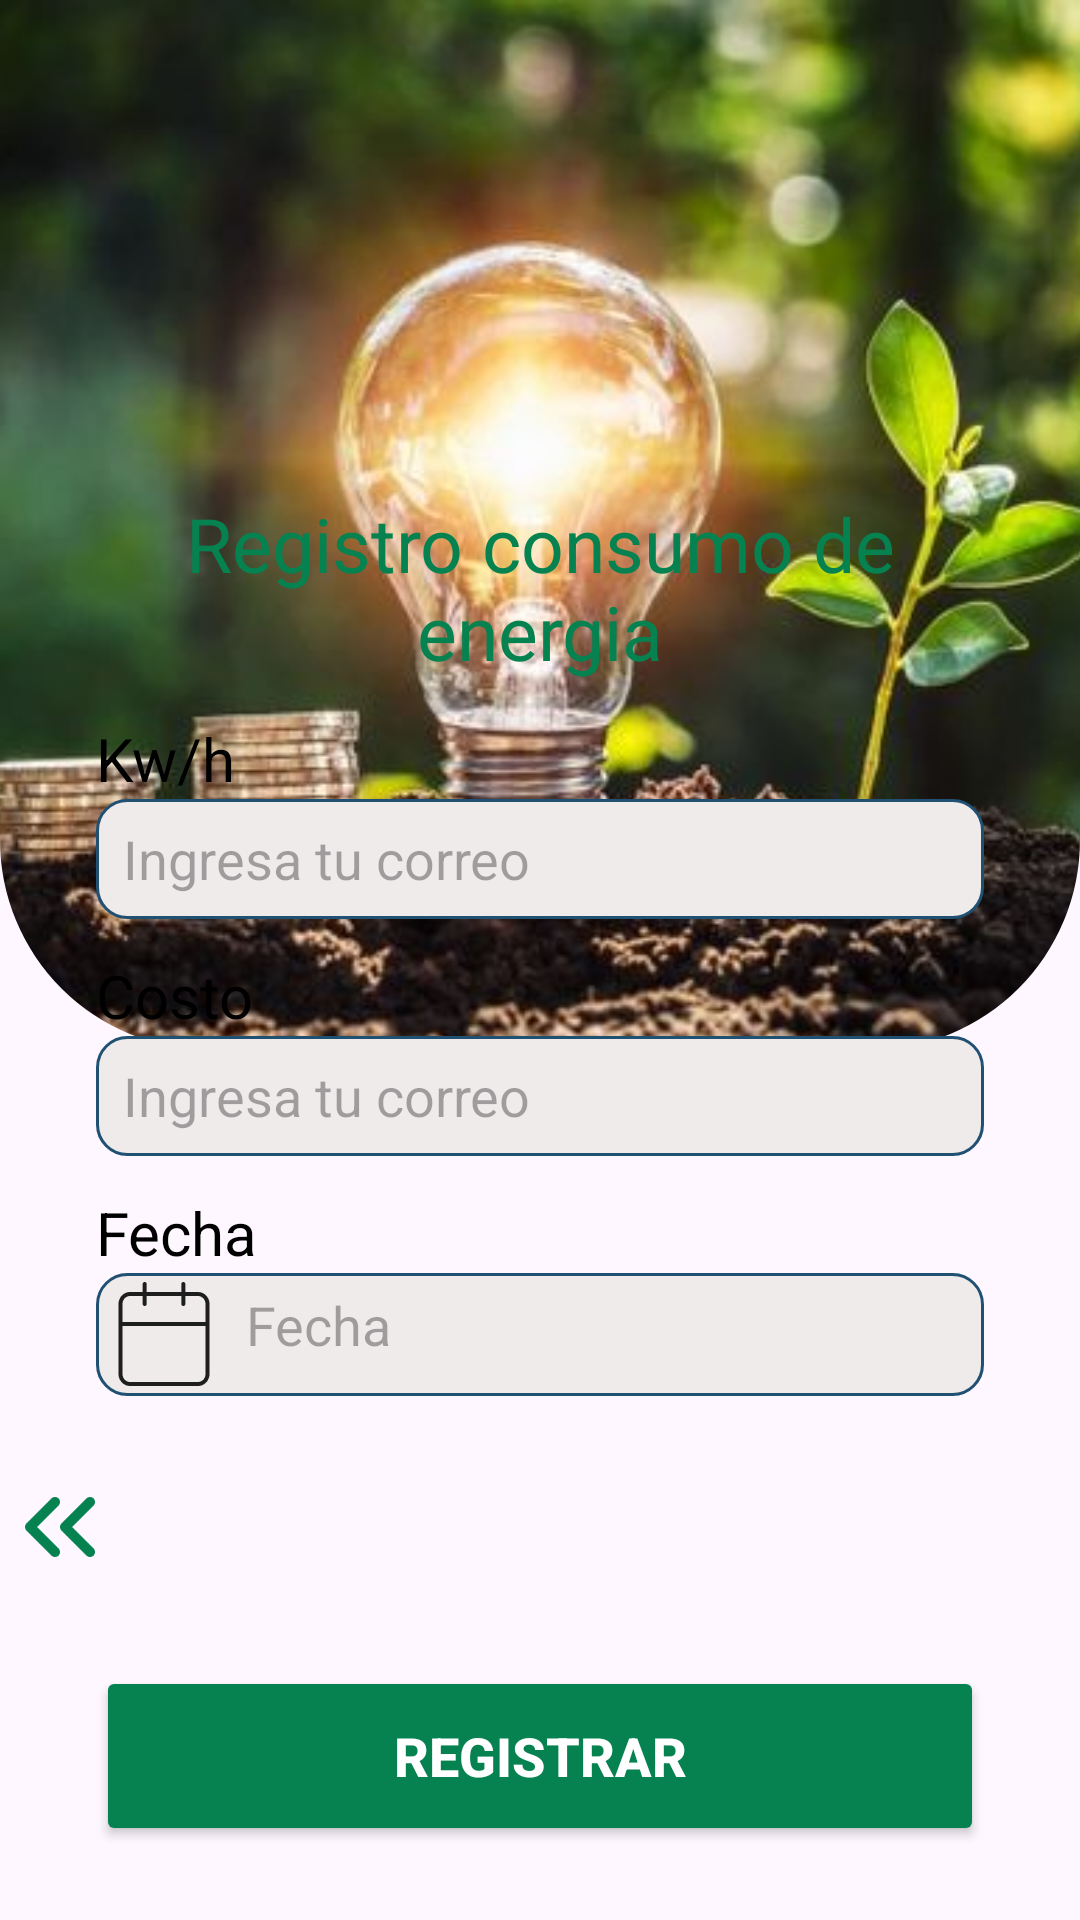

Icon bounding boxes for this 1080 x 1920 phone screenshot, format rect(x1, y1, x2, y2):
chevrons left: rect(25, 1497, 95, 1557)
